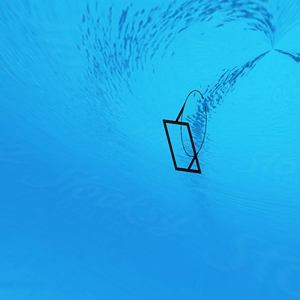circle: (162, 89, 212, 175)
